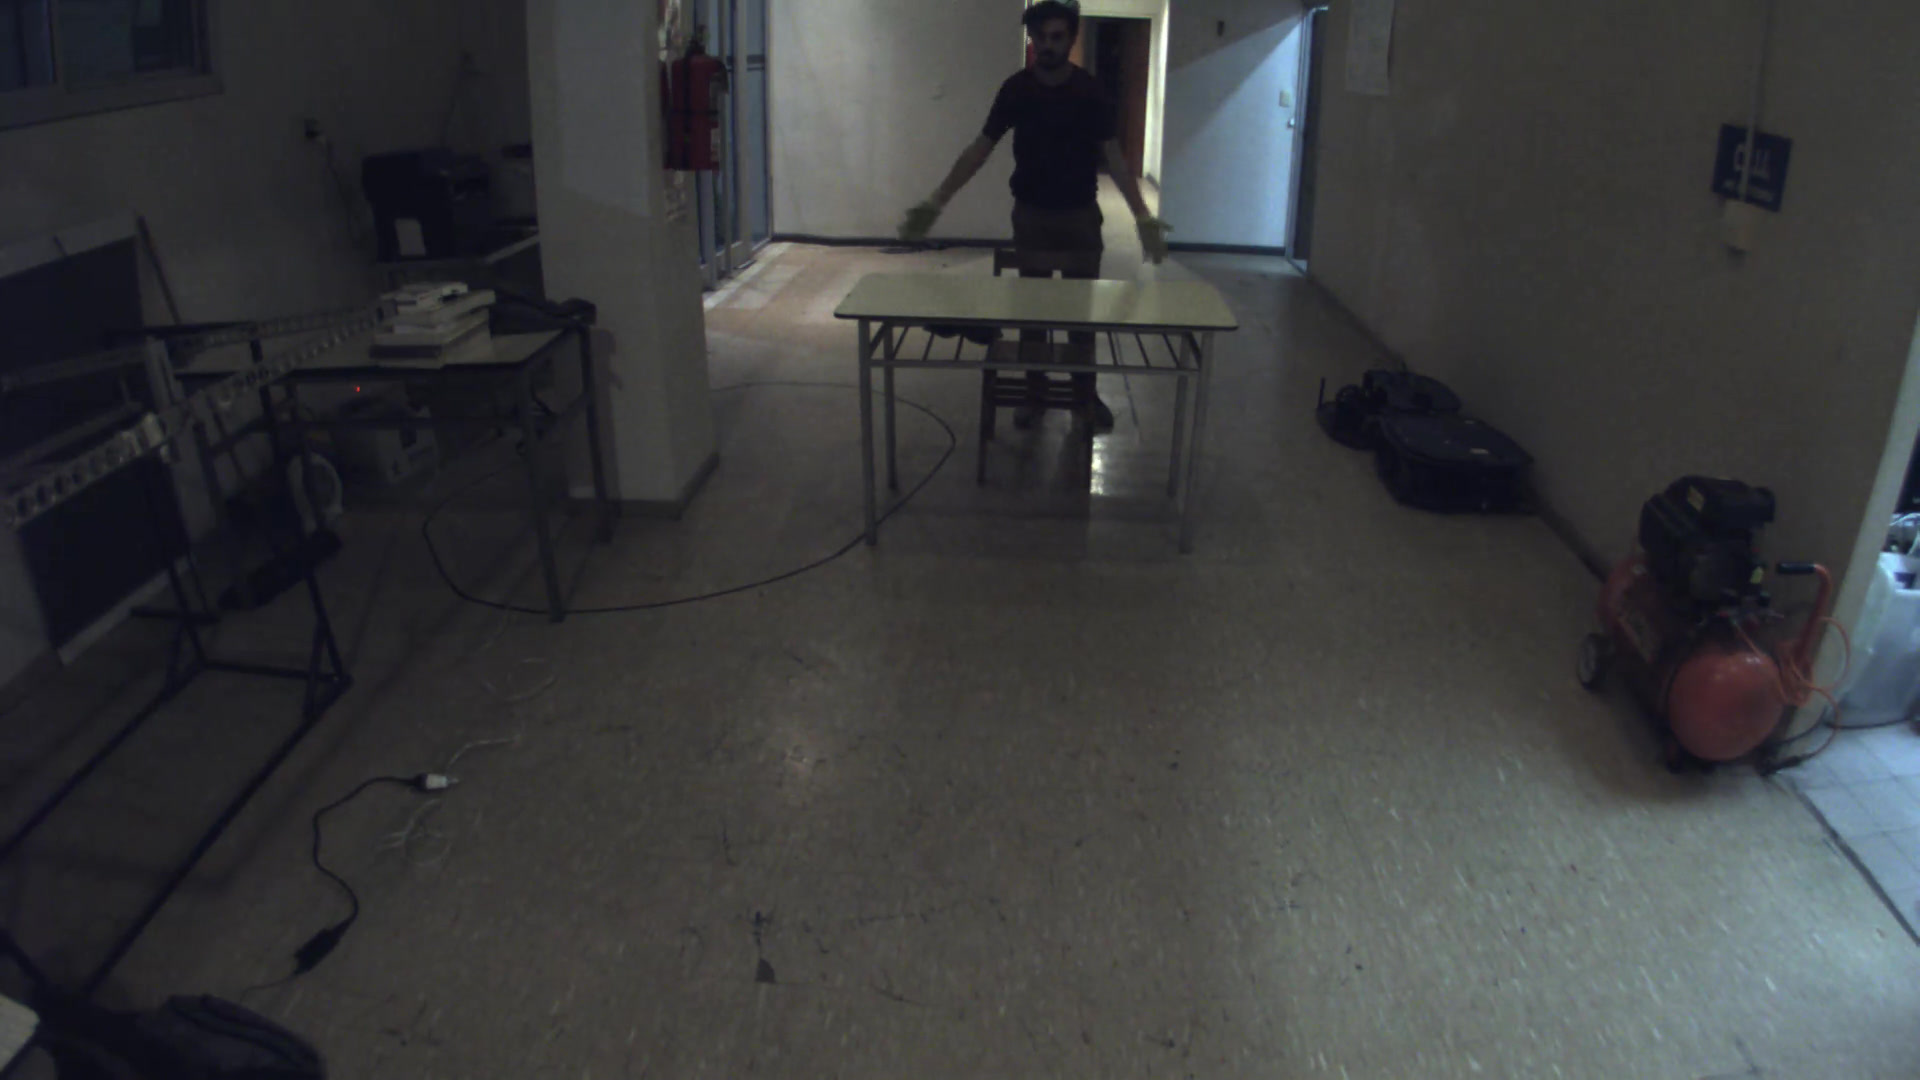hand: (889, 196, 955, 248), (1130, 200, 1178, 268)
